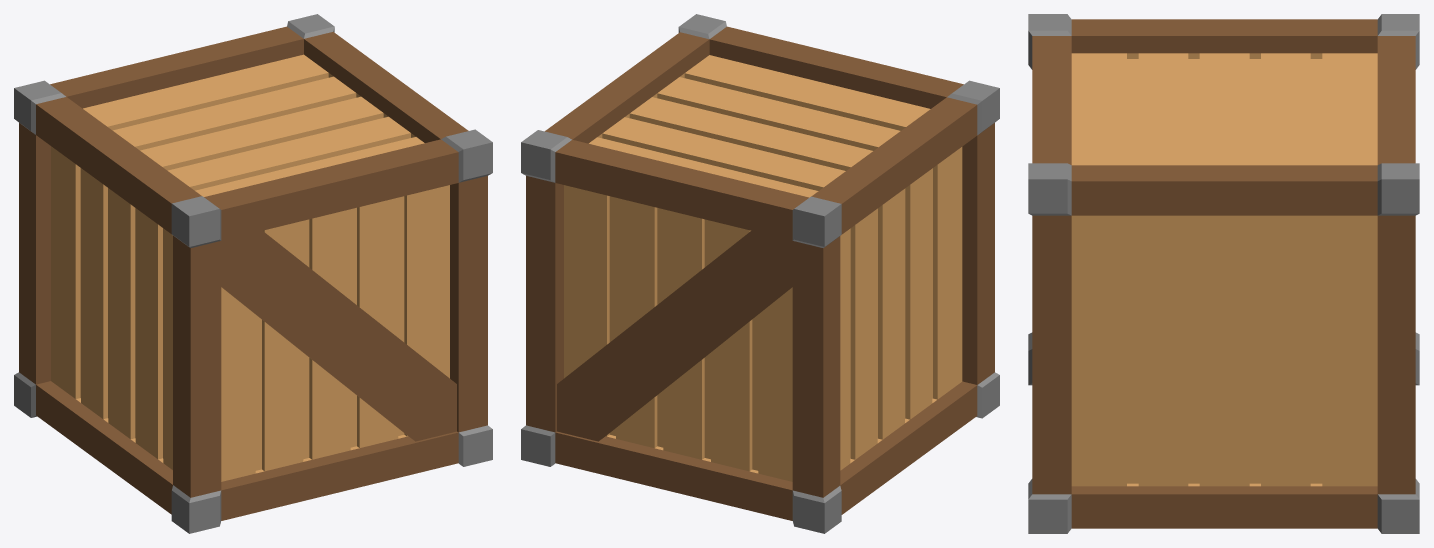
File: Table.fbx
3 views of the same model, side by side, from view 1: azimuth 30°, elevation 25°; view 2: azimuth 150°, elevation 25°; view 3: azimuth 270°, elevation 25° (orthographic). The views are drawn at different scales.
Parts seen in each view (by area): view 1: Cube.001, Cube, Cube.002; view 2: Cube.001, Cube, Cube.002; view 3: Cube.001, Cube.
Boxes of the visible parts, <box> form: Cube.001: <box>51,54,449,481</box>; Cube: <box>14,14,492,533</box>; Cube.002: <box>221,231,456,441</box>; Cube.001: <box>564,55,962,481</box>; Cube: <box>521,14,999,533</box>; Cube.002: <box>557,231,792,441</box>; Cube.001: <box>1071,53,1377,486</box>; Cube: <box>1028,14,1419,533</box>.
Size of the model in its own units: 204 by 204 by 204.
